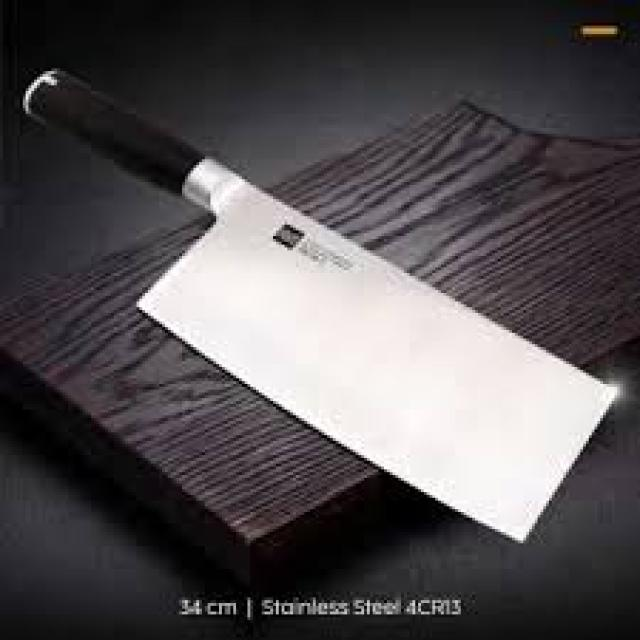Knife: (20, 68, 614, 540)
